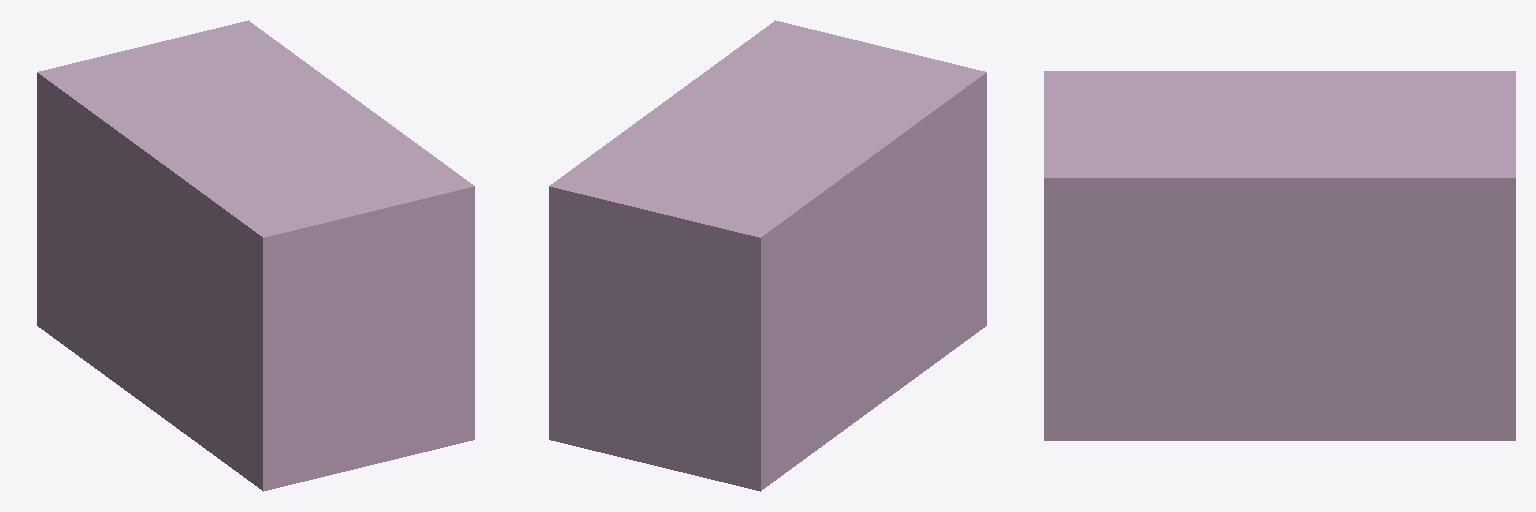
The robot description file, URDF, robot "box.urdf":
<?xml version="1.0" ?>
<robot name="box.urdf">
  <link name="baseLink">
    <contact>
      <lateral_friction value="1.0"/>
      <rolling_friction value="0.0001"/>
      <inertia_scaling value="3.0"/>
    </contact>
    <inertial>
      <origin rpy="0 0 0" xyz="0 0 0"/>
       <mass value="0.1"/>
       <inertia ixx="1" ixy="0" ixz="0" iyy="1" iyz="0" izz="1"/>
    </inertial>
    <visual>
      <origin rpy="0 0 0" xyz="0 0 0"/>
      <geometry>
        <!-- <box size="0.172 0.319 0.19699999999999998"/> -->
        <mesh filename="box/box.obj" scale="0.172 0.319 0.19699999999999998"/>
      </geometry>
      <material name="white">
        <color rgba="0.8 0.7 0.8 1"/>
      </material>
    </visual>
    <collision>
      <origin rpy="0 0 0" xyz="0 0 0"/>
      <geometry>
        <mesh filename="box/box.obj" scale="0.172 0.319 0.19699999999999998"/>
	 	    <!-- <box size="0.172 0.319 0.19699999999999998"/> -->
      </geometry>
    </collision>
  </link>
</robot>

--- Facts derived from the render (not from the file) ---
3 views of the same robot in one strip: view 1: azimuth 30°, elevation 25°; view 2: azimuth 150°, elevation 25°; view 3: azimuth 270°, elevation 25° (orthographic).
Robot: box.urdf — 1 links, 0 joints (none); root link baseLink; default pose: all joints at 0.
Visible links, largest first — view 1: baseLink; view 2: baseLink; view 3: baseLink.
Boxes of the visible links, <box> form: baseLink: <box>37,20,474,491</box>; baseLink: <box>549,20,986,491</box>; baseLink: <box>1044,71,1515,440</box>.
Size in the robot's own frame: 0.172 by 0.319 by 0.197 metres.
1 mesh visuals loaded from 1 distinct referenced files (1 OBJ).
